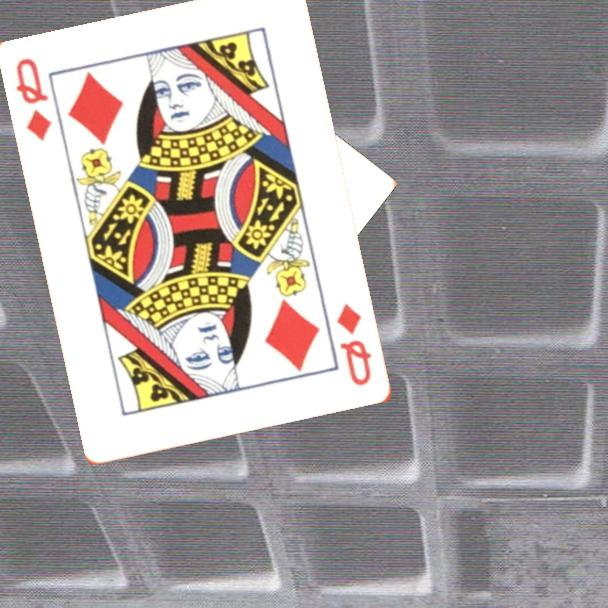d12: (13, 54, 55, 145), (334, 300, 375, 389)
